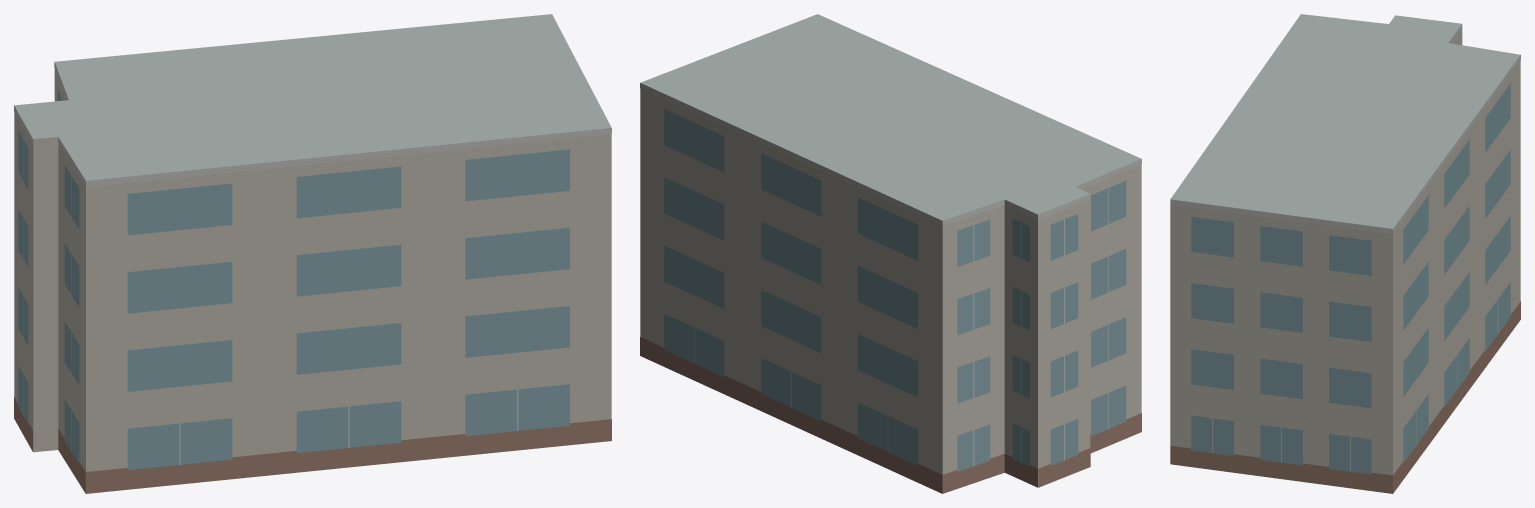
The model's file is survey-upis-32963746.glb.
The picture shows the model from 3 angles, left to right: view 1: azimuth 30°, elevation 25°; view 2: azimuth 150°, elevation 25°; view 3: azimuth 270°, elevation 25°; orthographic projection. The views are drawn at different scales.
Parts seen in each view (by area): view 1: survey-upis-32963746.tmp; view 2: survey-upis-32963746.tmp; view 3: survey-upis-32963746.tmp.
Part boxes in pixels (x1,y1,x2,y2): survey-upis-32963746.tmp: [14, 14, 611, 493]; survey-upis-32963746.tmp: [640, 14, 1141, 493]; survey-upis-32963746.tmp: [1170, 14, 1520, 493].
Bounding box in the file's own units: 21.24 × 12.2 × 14.64.
